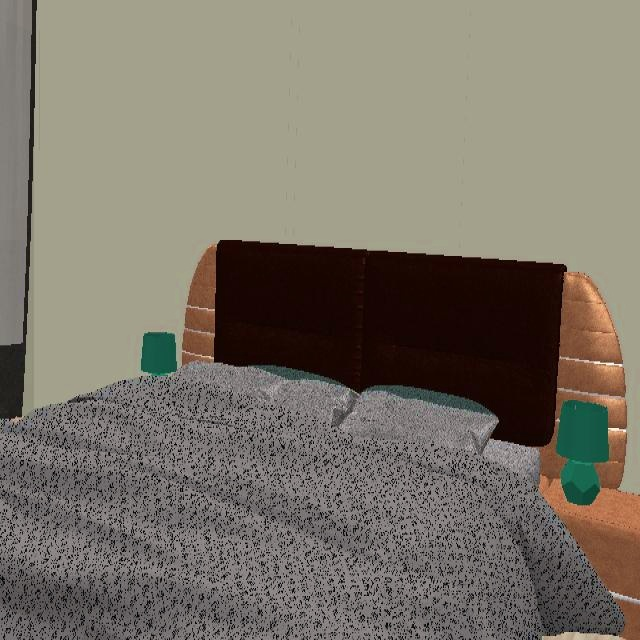bed: (0, 243, 625, 640)
lamp: (553, 387, 623, 507), (140, 332, 179, 376)
nighttable: (541, 451, 640, 640)
pillow: (160, 361, 498, 453)
